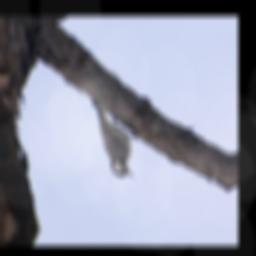Woodpecker: (83, 94, 145, 183)
